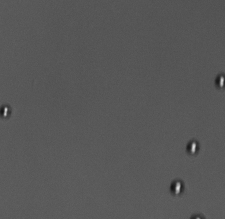Living Cell: (168, 178, 186, 197), (185, 139, 202, 155), (1, 104, 14, 122), (214, 73, 224, 88)
